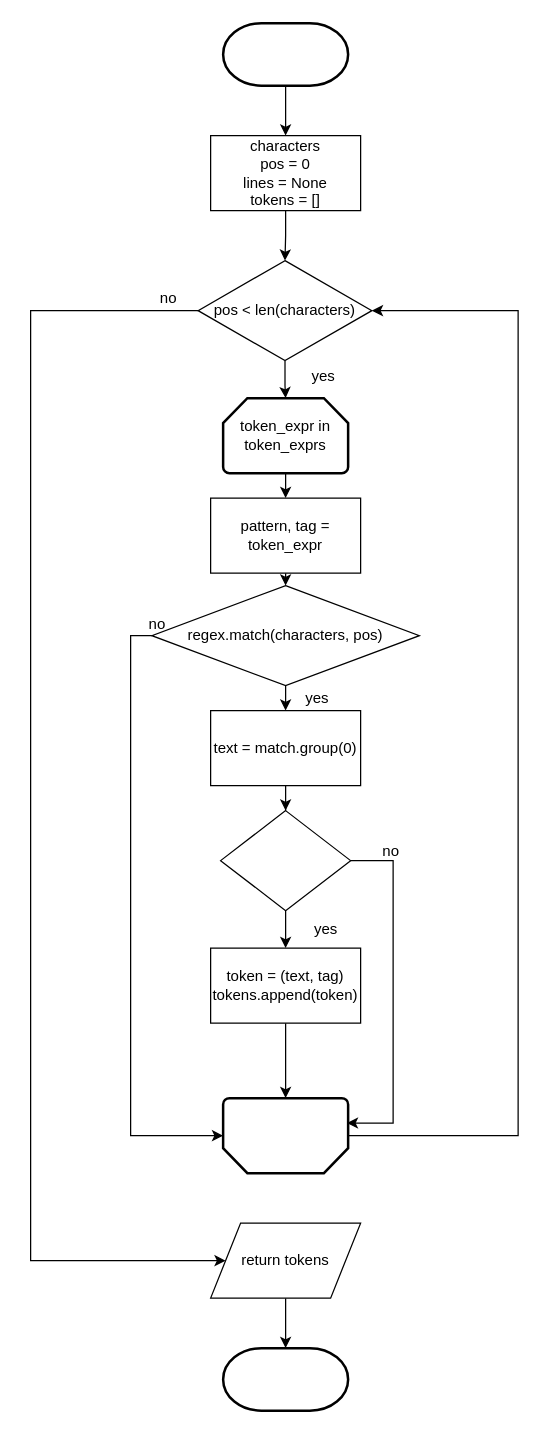
The diagram is 550 pixels wide and 1433 high, and some of its shapes have lost their labels. The shapes that lost their labels are listed below. From the top down, each one's centre as x and y in pixels, then its label:
point 285,53: Начало
point 285,860: tag
point 285,1135: next token_expr
point 285,1378: Конец
